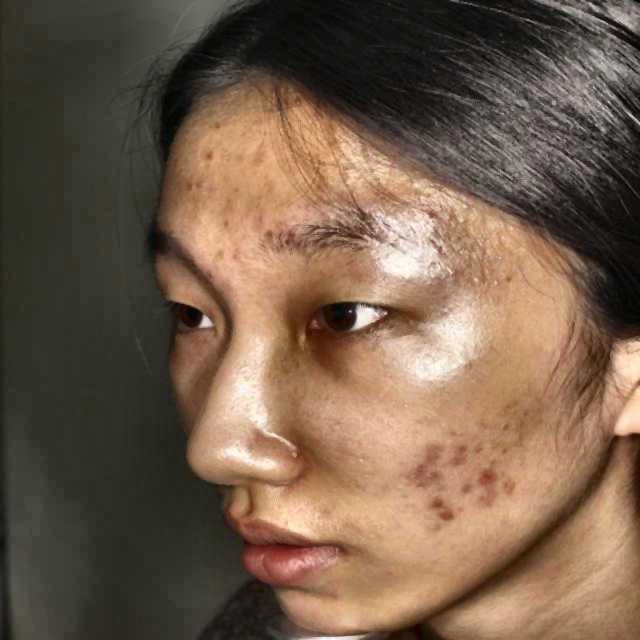pustule: (256, 225, 290, 252), (445, 442, 478, 467), (432, 510, 465, 535), (408, 465, 442, 489), (418, 441, 446, 462), (179, 175, 205, 197), (497, 476, 519, 498), (224, 245, 246, 266), (475, 490, 498, 510), (476, 464, 496, 486), (456, 479, 476, 501), (421, 492, 443, 508), (202, 146, 216, 168)
